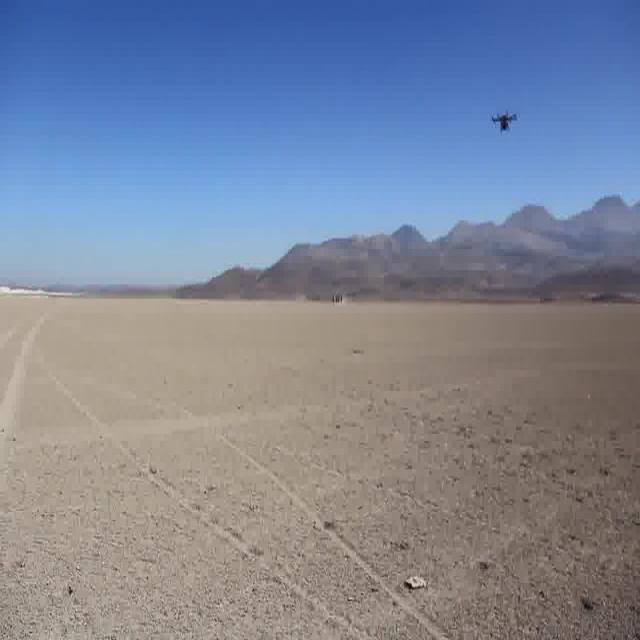drones: (486, 92, 523, 140)
